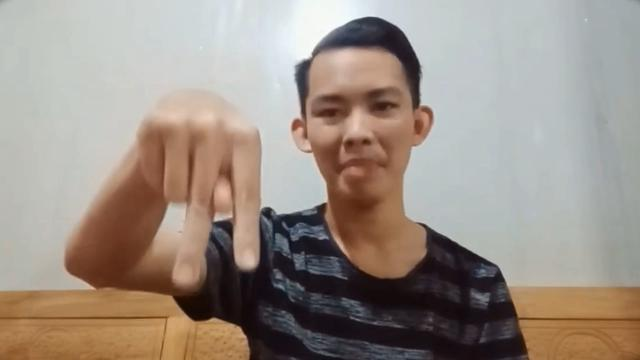P: (127, 86, 271, 294)
